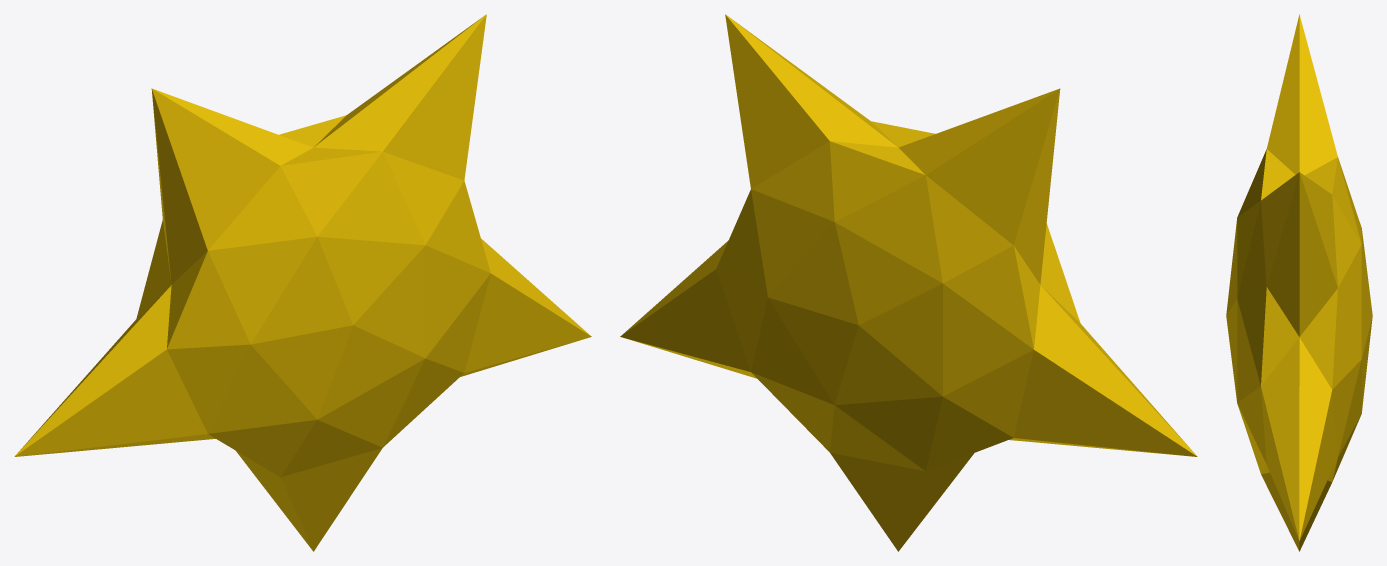
File: LowPolyStar.fbx
3 renders of one model, left to right at view 1: azimuth 30°, elevation 25°; view 2: azimuth 150°, elevation 25°; view 3: azimuth 270°, elevation 25°, orthographic. The views are drawn at different scales.
Parts seen in each view (by area): view 1: Icosphere; view 2: Icosphere; view 3: Icosphere.
Boxes of the visible parts, box(x1,y1,x2,y2) form: Icosphere: box(14, 14, 591, 551); Icosphere: box(620, 14, 1197, 551); Icosphere: box(1226, 14, 1372, 551).
Bounding box in the file's own units: 165 × 137 × 39.25.
